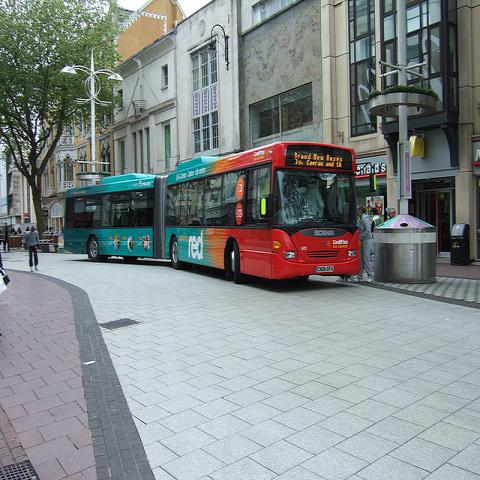bus: (64, 142, 364, 280)
